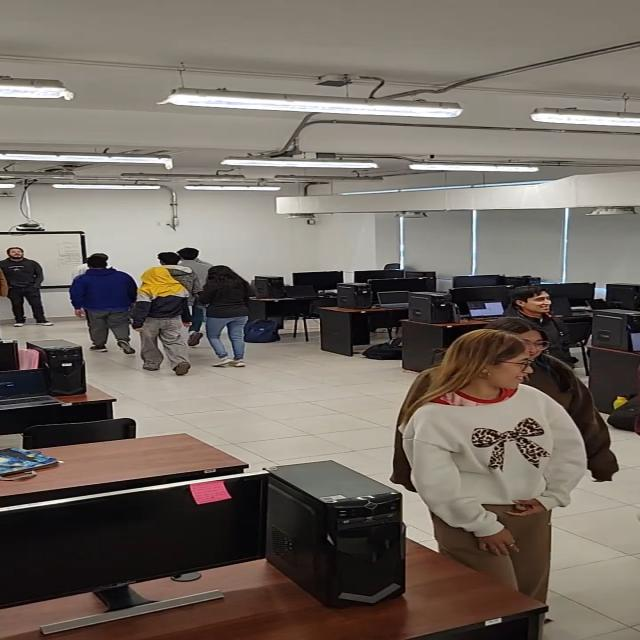Persona: (423, 328, 581, 586), (66, 256, 134, 346), (202, 264, 256, 359), (136, 268, 187, 368), (5, 242, 59, 328), (164, 247, 211, 287)
